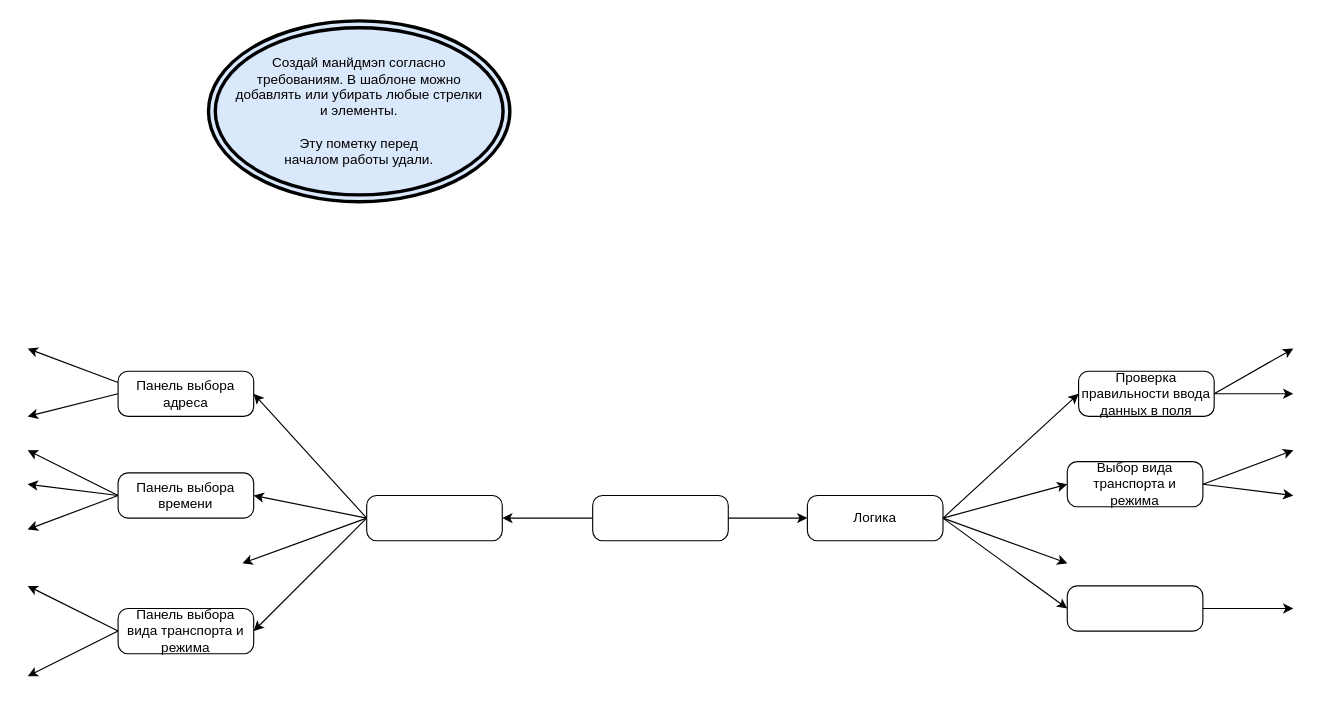
This 1322x705 diagram has some shape labels left out. Each missing label, with the centre of its shape:
Интерфейс: pixel 434 517
Расчёт времени и стоимости: pixel 1134 608
Яндекс Маршруты: pixel 660 517
